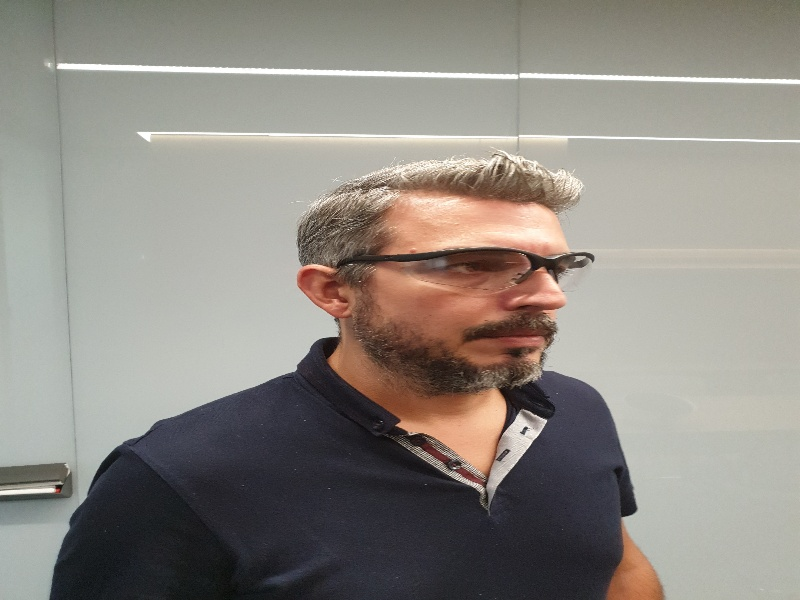Gozluk: (343, 248, 599, 293)
